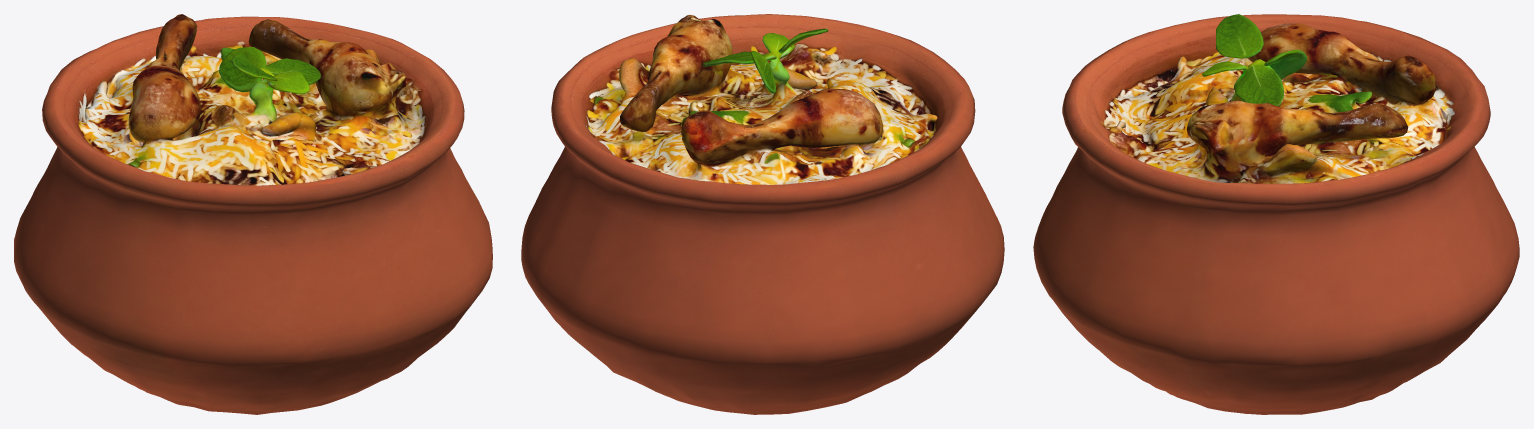
Rendered from biryani.glb.
3 renders of one model, left to right at view 1: azimuth 30°, elevation 25°; view 2: azimuth 150°, elevation 25°; view 3: azimuth 270°, elevation 25°, orthographic.
Bounding box in the file's own units: 1.9 × 1.43 × 1.9.
Materials: 1 (1 with a texture image).
